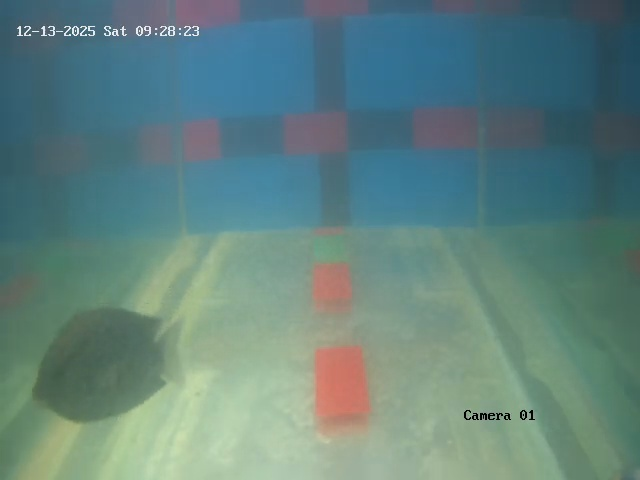fish: (30, 306, 178, 419)
